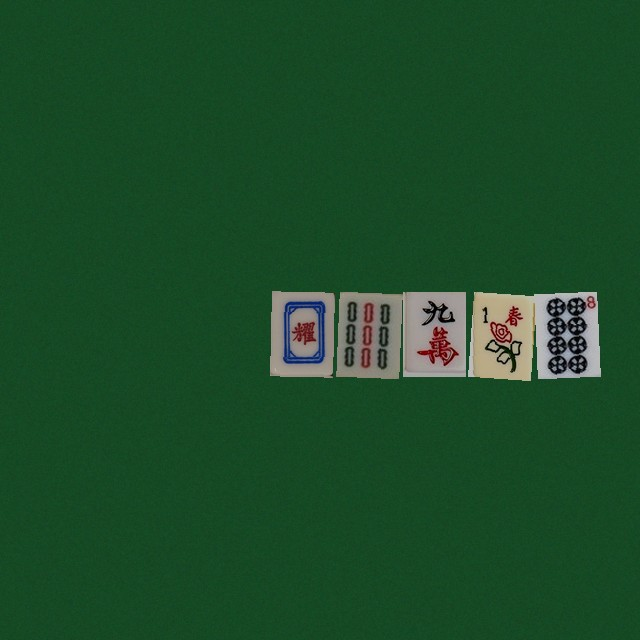tile: (270, 291, 333, 376), (336, 291, 399, 376), (402, 291, 465, 376), (468, 291, 531, 376), (534, 291, 597, 376)
